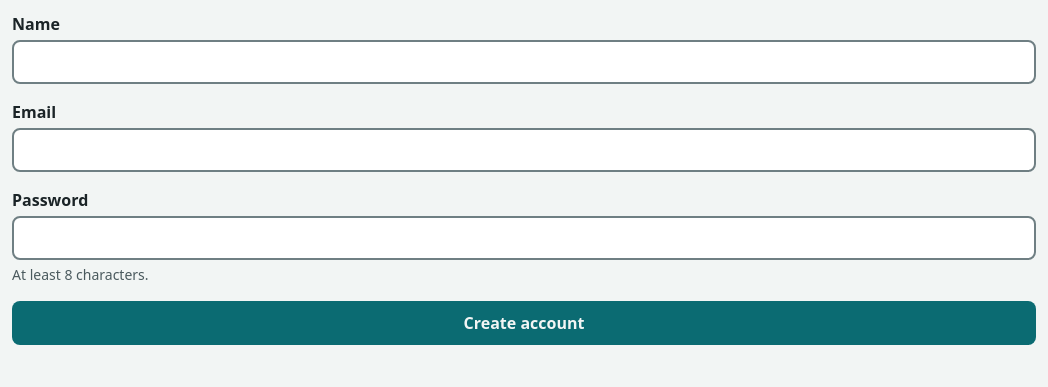
Test case: RegisterForm › blocks submit and names the broken rule when the password is too short
Type "Ada" into the field labelled "Name" at {"x": 524, "y": 62}, box [12, 40, 1036, 84]
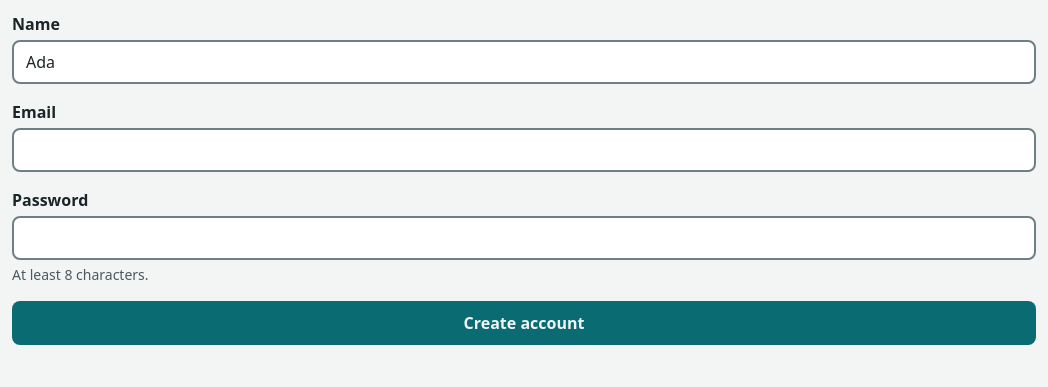
Type "ada@example.com" into the field labelled "Email" at {"x": 524, "y": 150}, box [12, 128, 1036, 172]
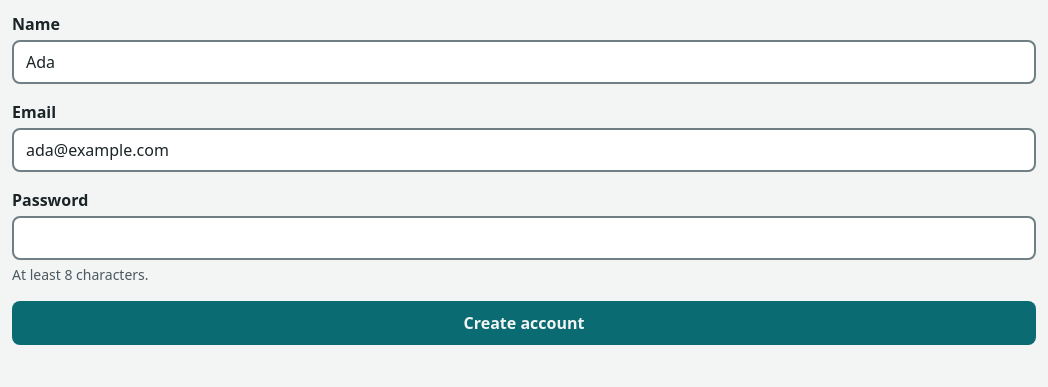
Type "short" into the password field labelled "Password" at {"x": 524, "y": 238}, box [12, 216, 1036, 260]
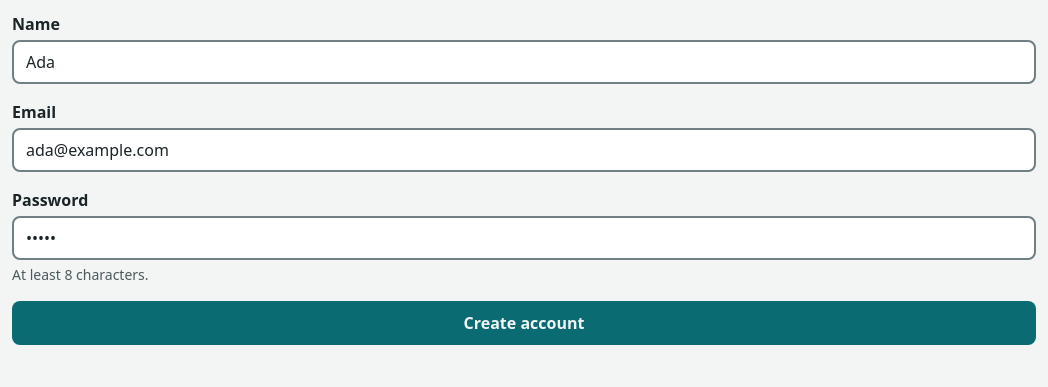
Submit the form
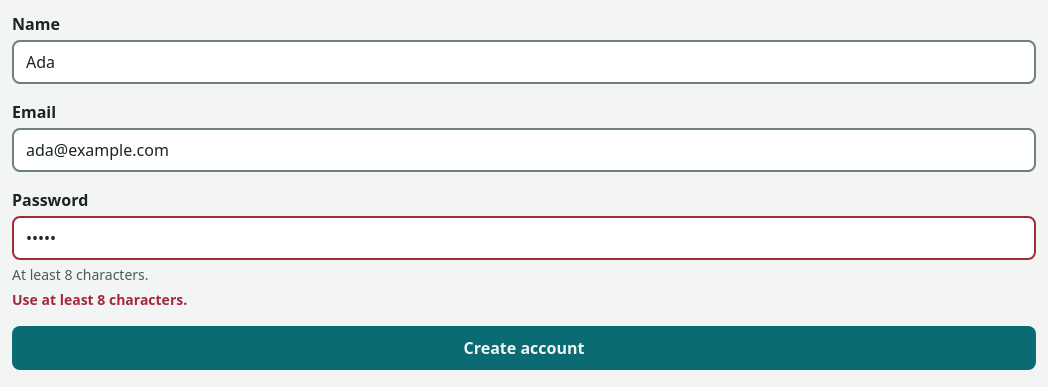
Expected: the element showing "Use at least 8 characters." is shown, [12, 290, 187, 309]
